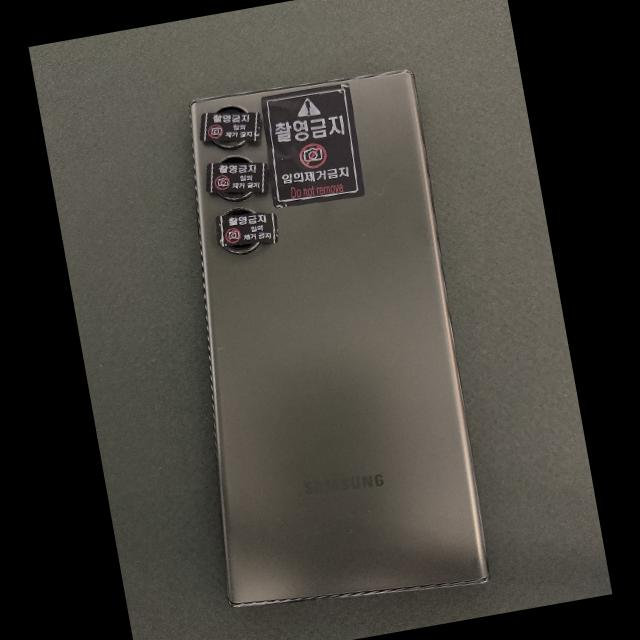lens: (223, 243, 261, 254), (218, 192, 254, 202), (214, 140, 248, 150)
phone: (189, 70, 488, 605)
sticker: (260, 83, 365, 207), (215, 212, 278, 246), (206, 162, 267, 193), (200, 112, 260, 142)
